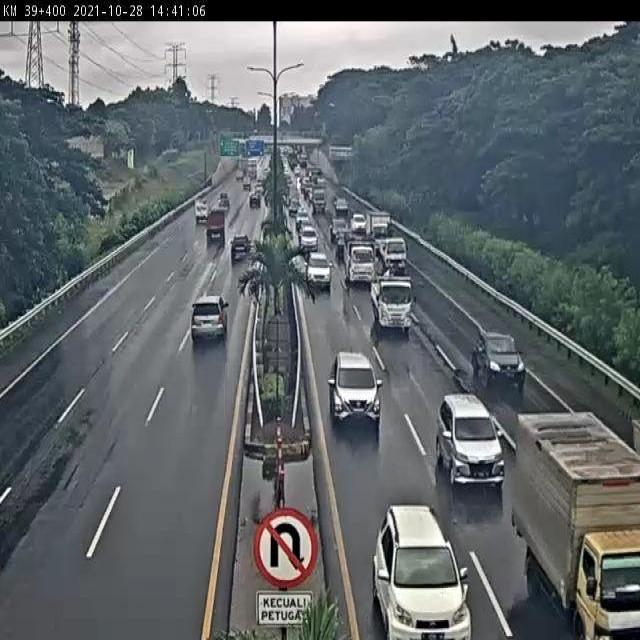car: (372, 502, 473, 640), (434, 393, 506, 492), (329, 350, 382, 422), (471, 329, 527, 388), (305, 250, 332, 286), (229, 235, 251, 264)
mid truck: (371, 278, 415, 334), (189, 296, 229, 341), (342, 239, 375, 285), (377, 235, 408, 273)
